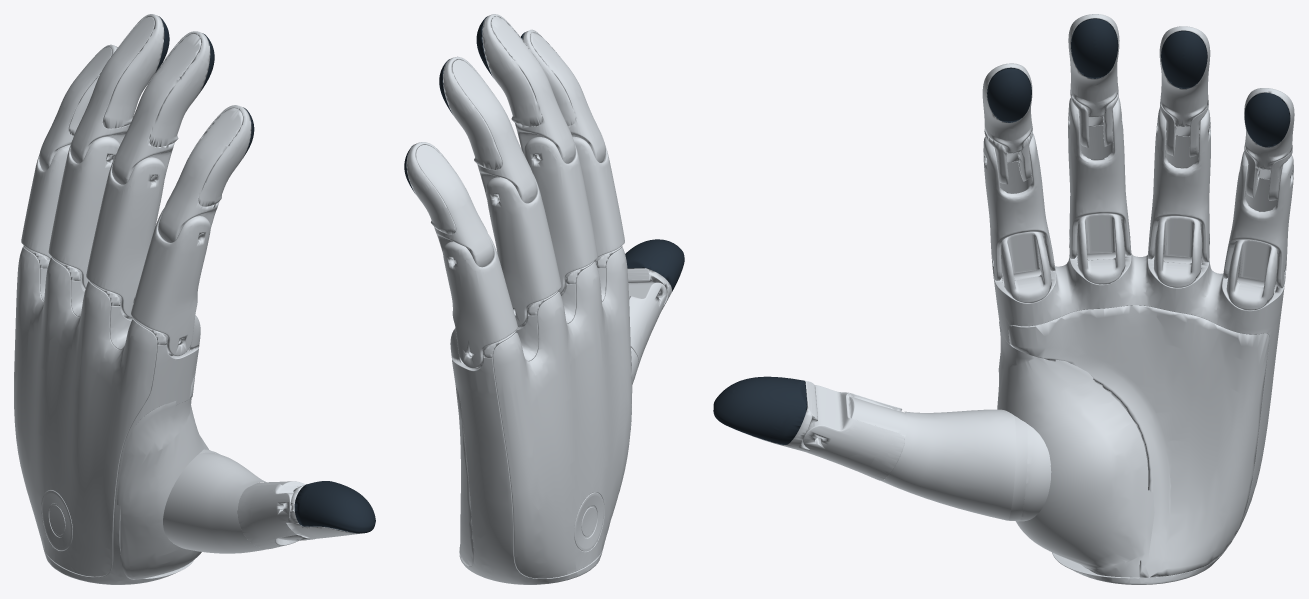
File: revo2-left.glb
3 views of the same model, side by side, from view 1: azimuth 30°, elevation 25°; view 2: azimuth 150°, elevation 25°; view 3: azimuth 270°, elevation 25° (orthographic). The views are drawn at different scales.
Parts seen in each view (by area): view 1: left_base_link_visual (×2), left_thumb_proximal_link_visual (×2), left_middle_proximal_link_visual, left_middle_distal_link_visual, left_index_proximal_link_visual, left_ring_distal_link_visual, left_index_distal_link_visual, left_ring_proximal_link_visual, left_thumb_touch_link_visual, left_pinky_proximal_link_visual, left_pinky_distal_link_visual, left_thumb_distal_link_visual; view 2: left_base_link_visual, left_ring_proximal_link_visual, left_middle_distal_link_visual, left_ring_distal_link_visual, left_pinky_proximal_link_visual, left_middle_proximal_link_visual, left_pinky_distal_link_visual, left_index_distal_link_visual, left_index_proximal_link_visual, left_thumb_proximal_link_visual (×2), left_thumb_touch_link_visual, left_thumb_distal_link_visual; view 3: left_base_link_visual (×2), left_thumb_proximal_link_visual (×2), left_middle_proximal_link_visual, left_ring_proximal_link_visual, left_index_proximal_link_visual, left_thumb_touch_link_visual, left_pinky_proximal_link_visual, left_ring_distal_link_visual, left_middle_distal_link_visual, left_index_distal_link_visual, left_pinky_distal_link_visual, left_middle_touch_link_visual (+4 smaller).
Part boxes in pixels (x1,y1,x2,y2): left_base_link_visual (×2): [14, 245, 208, 584]; left_thumb_proximal_link_visual (×2): [163, 448, 307, 553]; left_middle_proximal_link_visual: [86, 154, 165, 317]; left_middle_distal_link_visual: [112, 31, 210, 184]; left_index_proximal_link_visual: [131, 208, 210, 355]; left_ring_distal_link_visual: [70, 14, 164, 163]; left_index_distal_link_visual: [158, 105, 251, 242]; left_ring_proximal_link_visual: [48, 137, 119, 288]; left_thumb_touch_link_visual: [294, 481, 375, 533]; left_pinky_proximal_link_visual: [21, 145, 70, 259]; left_pinky_distal_link_visual: [39, 44, 117, 171]; left_thumb_distal_link_visual: [286, 484, 361, 539]; left_base_link_visual: [450, 246, 631, 584]; left_ring_proximal_link_visual: [486, 174, 561, 326]; left_middle_distal_link_visual: [482, 14, 575, 163]; left_ring_distal_link_visual: [443, 56, 537, 203]; left_pinky_proximal_link_visual: [443, 234, 517, 368]; left_middle_proximal_link_visual: [524, 137, 597, 293]; left_pinky_distal_link_visual: [406, 142, 493, 267]; left_index_distal_link_visual: [522, 29, 605, 162]; left_index_proximal_link_visual: [572, 136, 624, 261]; left_thumb_proximal_link_visual (×2): [628, 282, 666, 384]; left_thumb_touch_link_visual: [625, 239, 684, 291]; left_thumb_distal_link_visual: [627, 268, 671, 307]; left_base_link_visual (×2): [993, 214, 1285, 584]; left_thumb_proximal_link_visual (×2): [803, 385, 1051, 521]; left_middle_proximal_link_visual: [1068, 97, 1131, 258]; left_ring_proximal_link_visual: [1147, 107, 1210, 262]; left_index_proximal_link_visual: [983, 133, 1055, 280]; left_thumb_touch_link_visual: [713, 376, 807, 444]; left_pinky_proximal_link_visual: [1223, 151, 1293, 288]; left_ring_distal_link_visual: [1159, 26, 1210, 157]; left_middle_distal_link_visual: [1068, 14, 1119, 147]; left_index_distal_link_visual: [982, 63, 1032, 184]; left_pinky_distal_link_visual: [1244, 88, 1294, 200]; left_middle_touch_link_visual: [1071, 18, 1118, 78].
Size of the model in its own units: 0.0447 by 0.1595 by 0.1472.
